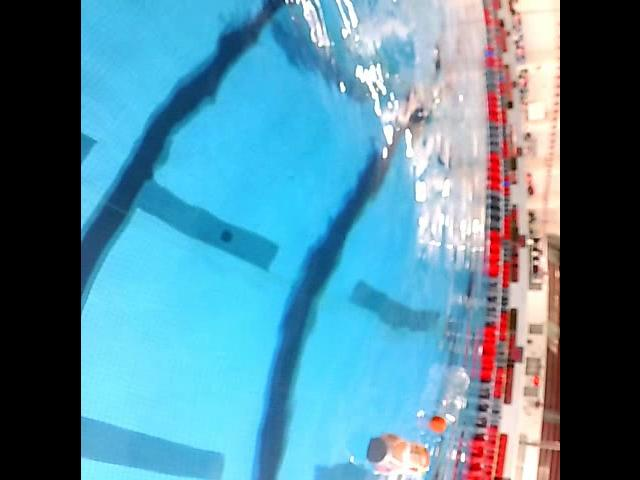Bottle: (420, 362, 476, 436), (361, 426, 434, 480)
